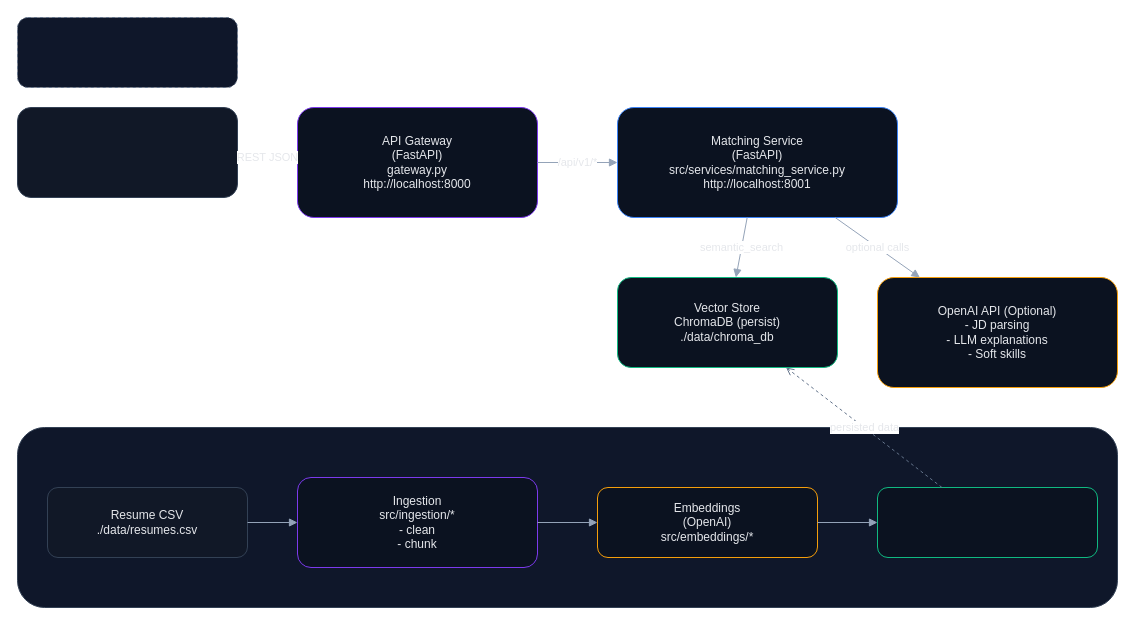
This 1135x625 diagram has some shape labels left out. The box of each missing label's shape, as (x1, y1, x2, y2) in pixels:
ChromaDB Persist ./data/chroma_db: (876, 486, 1098, 558)
Frontend (React + Vite) http://localhost:5173: (16, 106, 238, 198)
Ingestion Pipeline (One-time / batch): (16, 426, 1118, 608)
Legacy (Optional) Monolith API src/api/main.py (main.py): (16, 16, 238, 88)
